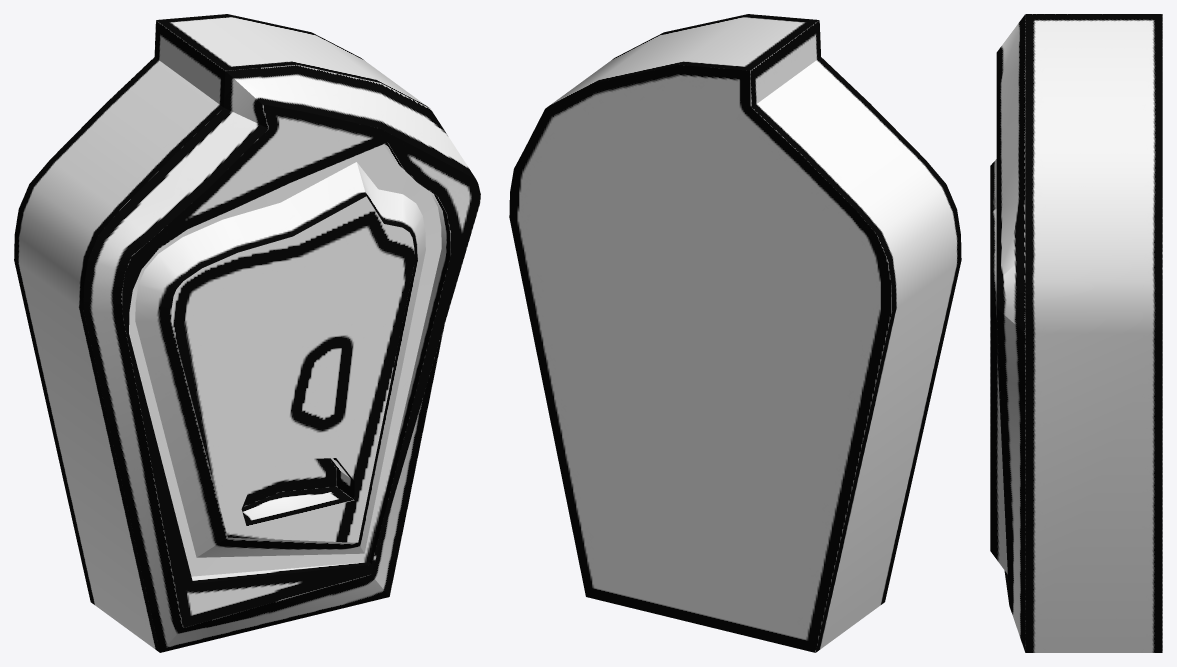
Rendered from fridge2.FBX.
3 views of the same model, side by side, from view 1: azimuth 30°, elevation 25°; view 2: azimuth 150°, elevation 25°; view 3: azimuth 270°, elevation 25° (orthographic).
Visible parts, largest first — view 1: Line009; view 2: Line009; view 3: Line009.
Part boxes in pixels (left/top/right/bottom): Line009: left=14, top=14, right=480, bottom=652; Line009: left=509, top=14, right=961, bottom=652; Line009: left=990, top=14, right=1162, bottom=652.
Bounding box in the file's own units: 100 × 141 × 39.45.
